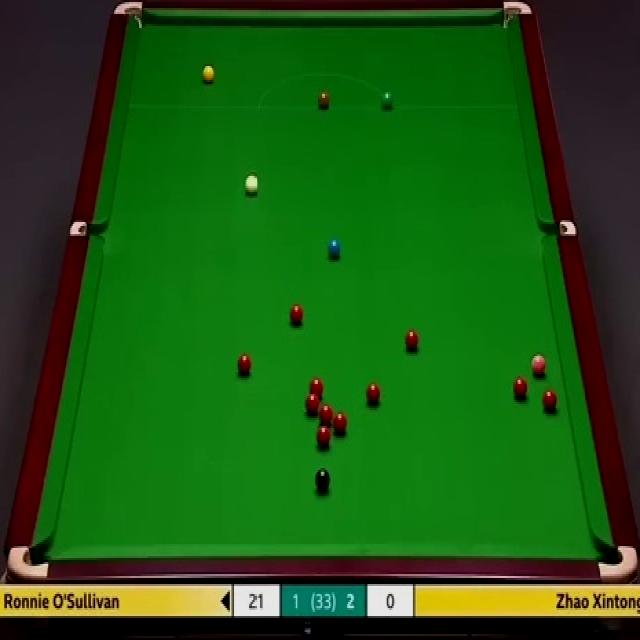black-ball: (314, 468, 330, 489)
blue-ball: (329, 237, 341, 260)
brown-ball: (317, 91, 331, 109)
green-ball: (381, 90, 394, 110)
pink-ball: (530, 353, 547, 381)
red-ball: (366, 380, 383, 408), (288, 305, 306, 326), (541, 388, 556, 413), (333, 410, 348, 434), (511, 376, 527, 398), (405, 328, 419, 352), (237, 353, 251, 377), (306, 393, 319, 418), (319, 407, 335, 427), (316, 426, 330, 448), (309, 378, 323, 399)
white-ball: (244, 173, 259, 197)
yellow-ball: (202, 64, 215, 86)
